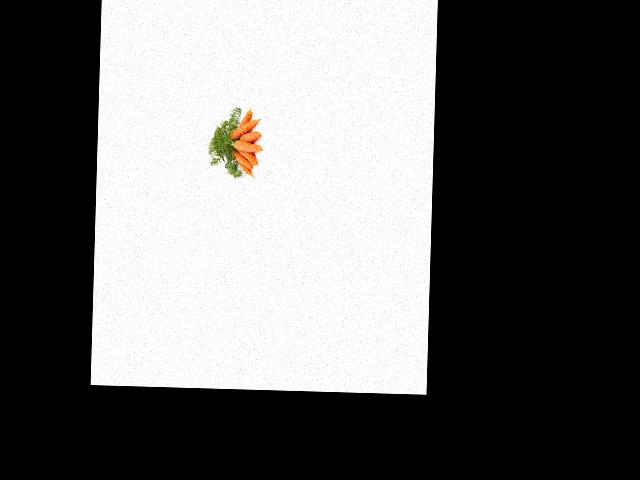carrot: (237, 108, 255, 132)
